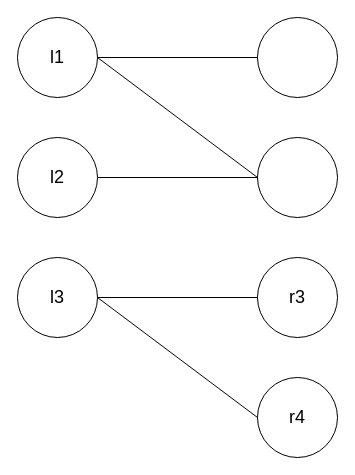
This 355x475 diagram has some shape labels left out. The centre of each missing label's shape, as x and y in pixels:
r1: pixel 297 57
r2: pixel 297 177
